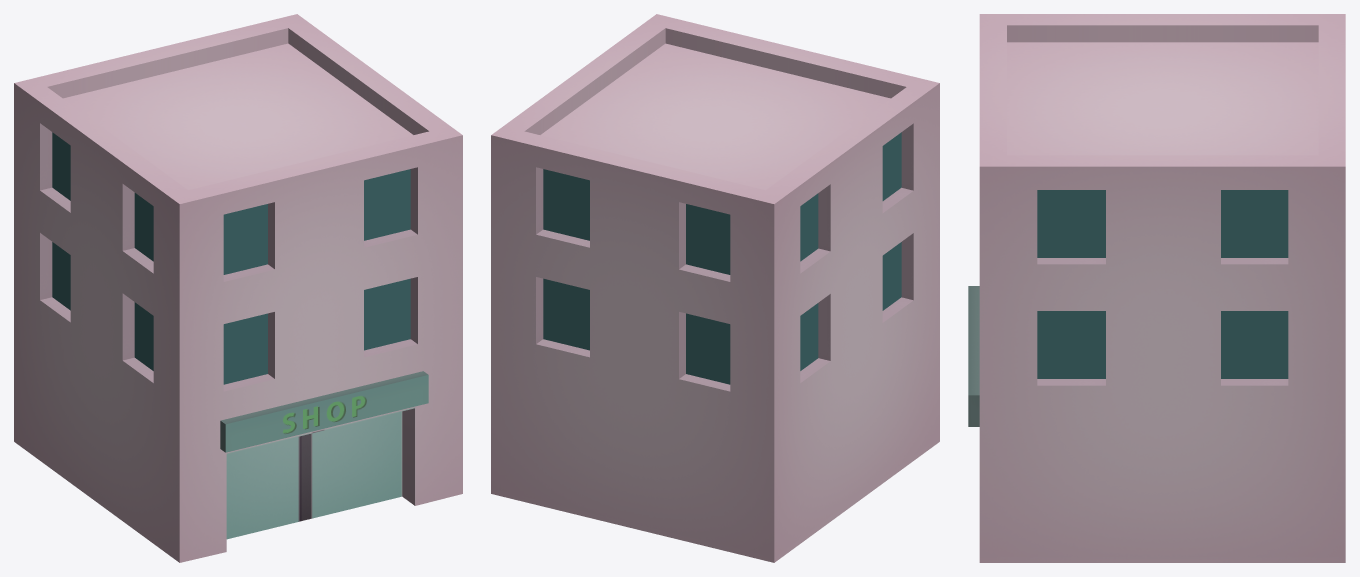
File: House_13_UV_Color 1.fbx
3 views of the same model, side by side, from view 1: azimuth 30°, elevation 25°; view 2: azimuth 150°, elevation 25°; view 3: azimuth 270°, elevation 25° (orthographic). The views are drawn at different scales.
Parts seen in each view (by area): view 1: House_13_UV_Color; view 2: House_13_UV_Color; view 3: House_13_UV_Color.
Part boxes in pixels (<box>): House_13_UV_Color: <box>14,14,462,562</box>; House_13_UV_Color: <box>491,14,939,562</box>; House_13_UV_Color: <box>968,14,1345,562</box>.
Bounding box in the file's own units: 1159 × 1405 × 1210.
